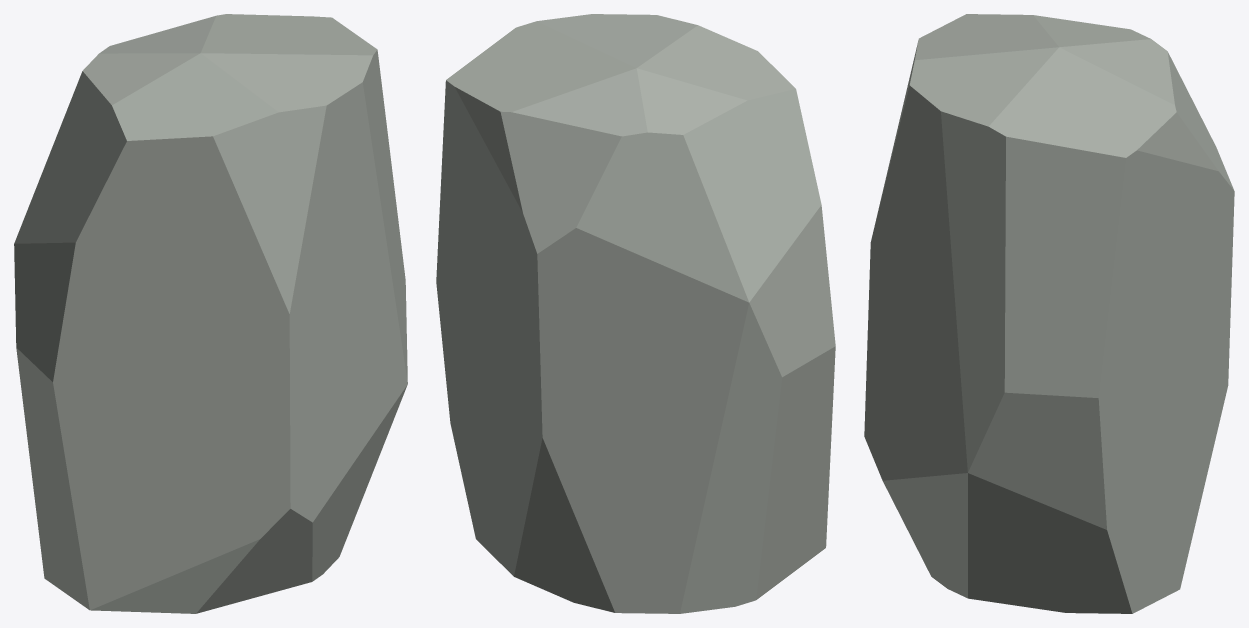
File: dummy_cliff_4.fbx
3 views of the same model, side by side, from view 1: azimuth 30°, elevation 25°; view 2: azimuth 150°, elevation 25°; view 3: azimuth 270°, elevation 25° (orthographic). The views are drawn at different scales.
Visible parts, largest first — view 1: Rock.020; view 2: Rock.020; view 3: Rock.020.
Part boxes in pixels (<box>): Rock.020: <box>14,14,407,613</box>; Rock.020: <box>436,14,835,613</box>; Rock.020: <box>864,14,1234,613</box>.
Bounding box in the file's own units: 683 × 927 × 589.
Materials: 1 (1 with a texture image).
